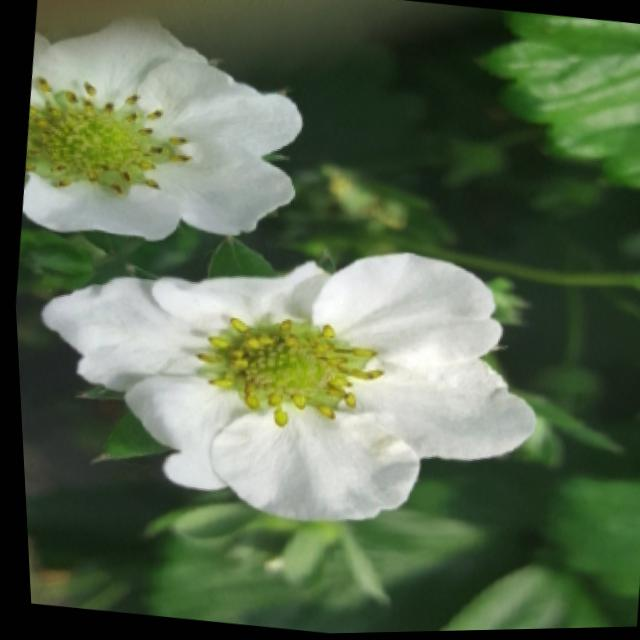Blossom Blight: (22, 70, 193, 204)
